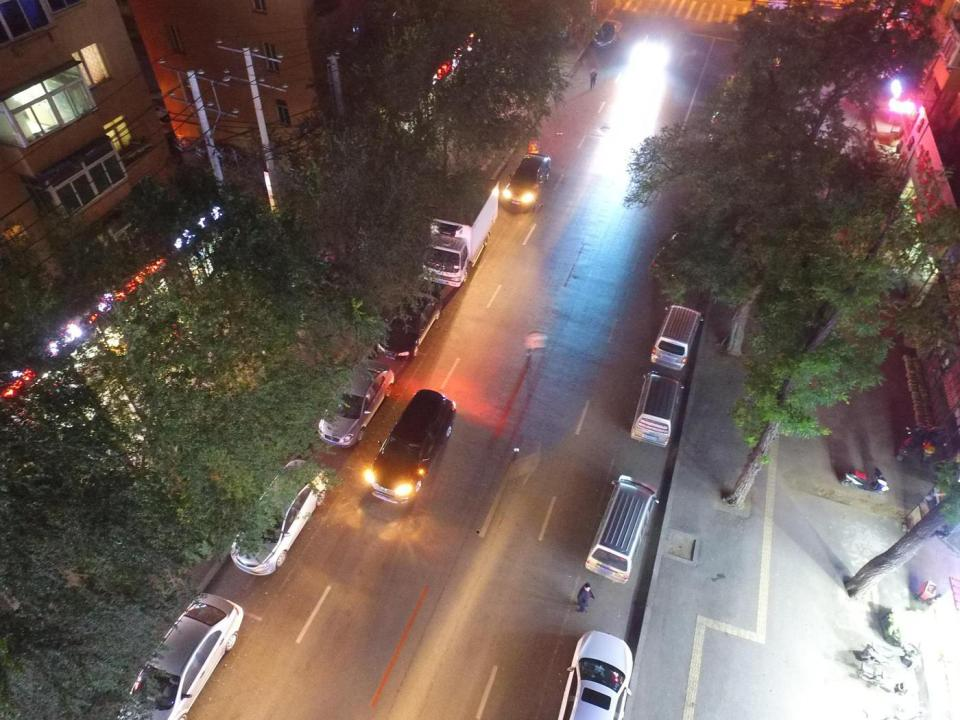car: (113, 590, 244, 720), (228, 458, 329, 577), (554, 628, 633, 720), (317, 358, 395, 450), (374, 284, 444, 362), (709, 70, 772, 147), (647, 226, 715, 297), (499, 150, 552, 214), (193, 140, 248, 168), (591, 18, 621, 51)
truck: (420, 171, 500, 289)
van: (367, 388, 457, 508), (584, 473, 660, 586), (629, 371, 686, 448), (649, 303, 705, 372)
